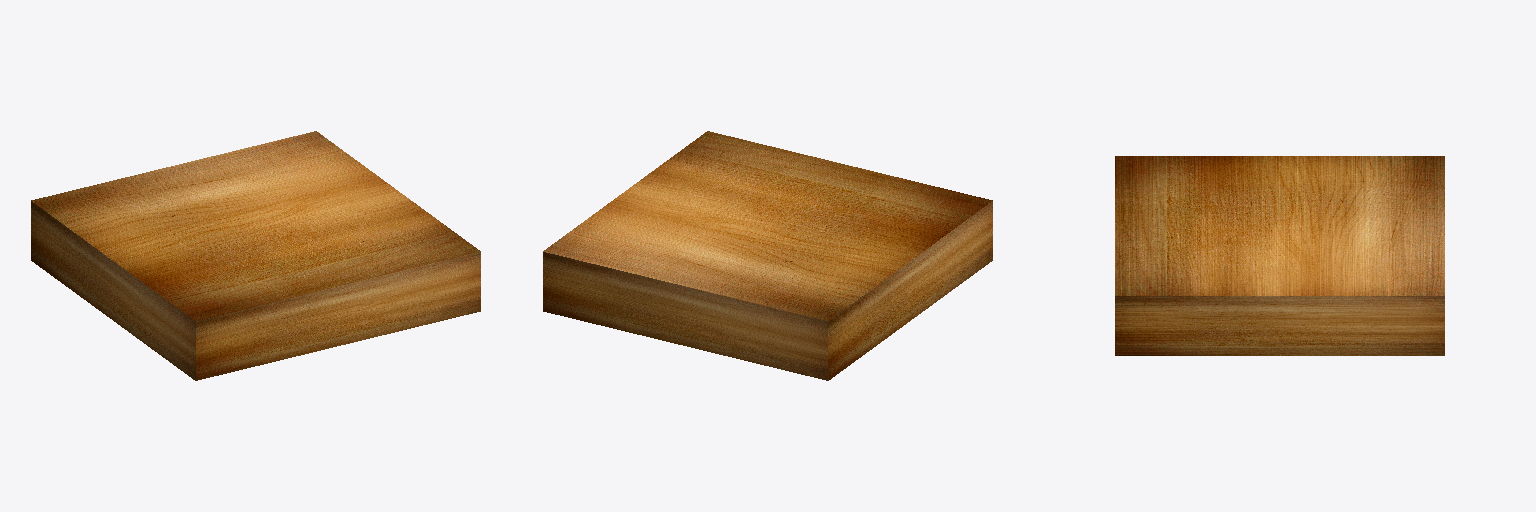
3 views of the same model, side by side, from view 1: azimuth 30°, elevation 25°; view 2: azimuth 150°, elevation 25°; view 3: azimuth 270°, elevation 25° (orthographic).
Visible parts, largest first — view 1: Box01; view 2: Box01; view 3: Box01.
Part boxes in pixels (x1,y1,x2,y2): Box01: (31, 131, 480, 380); Box01: (543, 131, 992, 380); Box01: (1115, 156, 1444, 355).
Bounding box in the file's own units: 20 × 4 × 20.
1 materials, 1 textured.